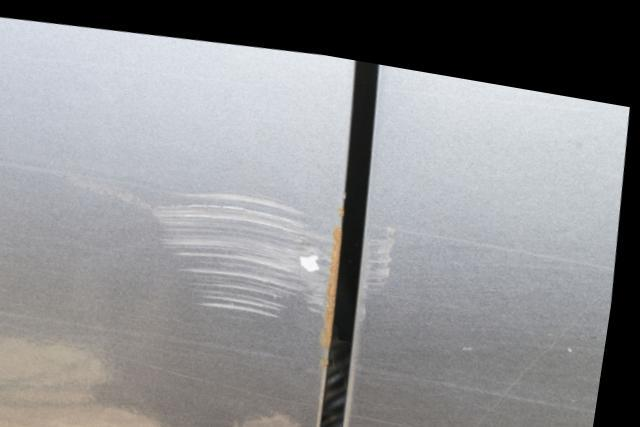scratch: (141, 179, 342, 312), (362, 210, 398, 307)
